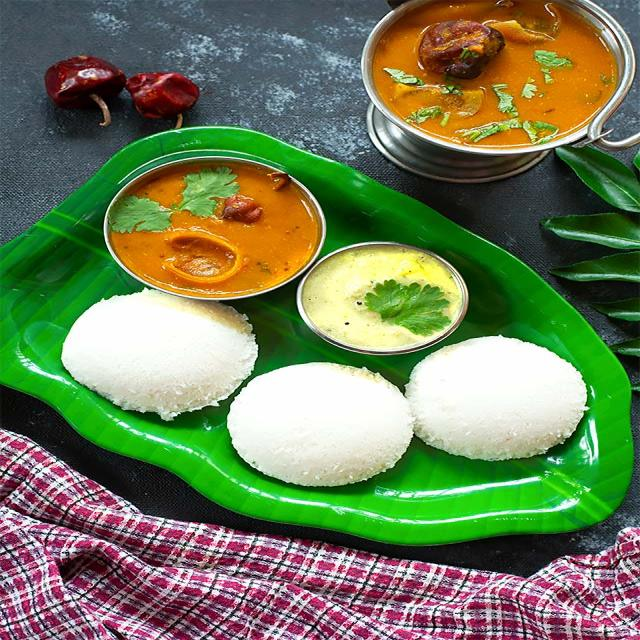Wet Waste: (49, 287, 260, 422), (222, 354, 417, 488), (396, 335, 592, 460), (292, 245, 482, 354)
